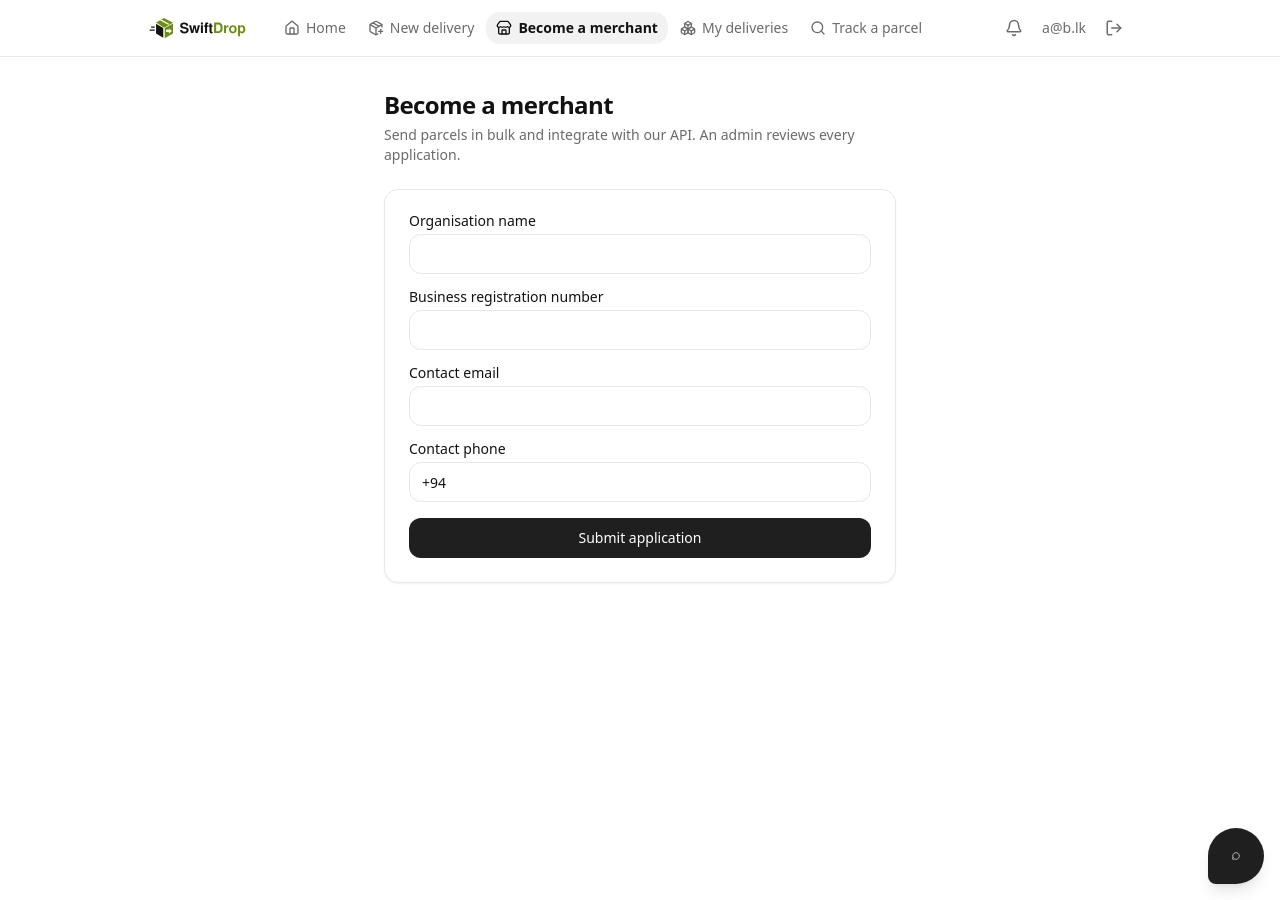
Test case: merchant registration › validates before sending
Click the button "Submit application": (640, 538) [409,518,871,558]
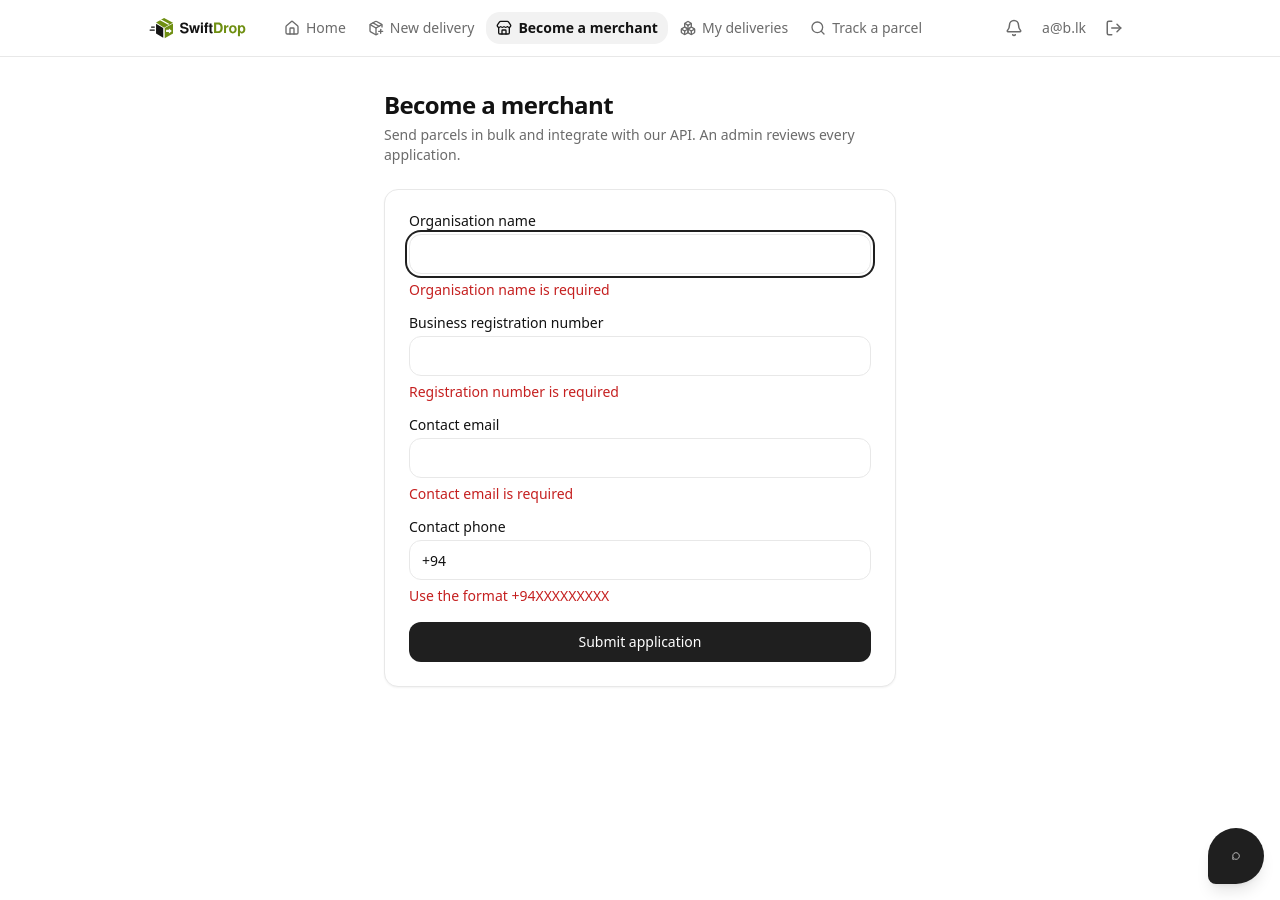
Check: the text "Organisation name is required" is shown, box [409,280,610,299]
Check: the text "Use the format +94XXXXXXXXX" is shown, box [409,586,609,605]
